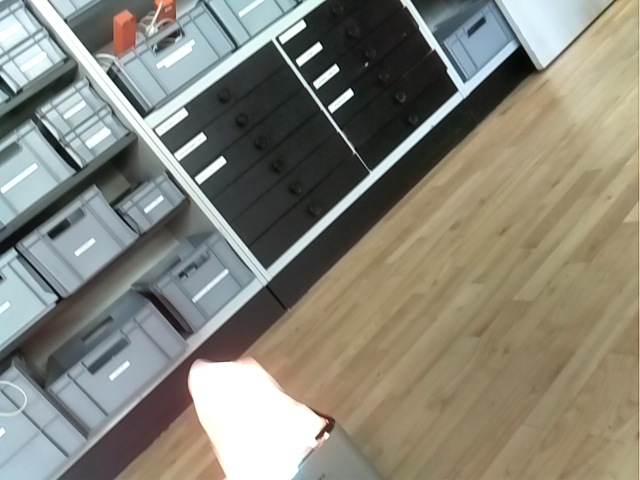fire: (186, 356, 330, 480)
